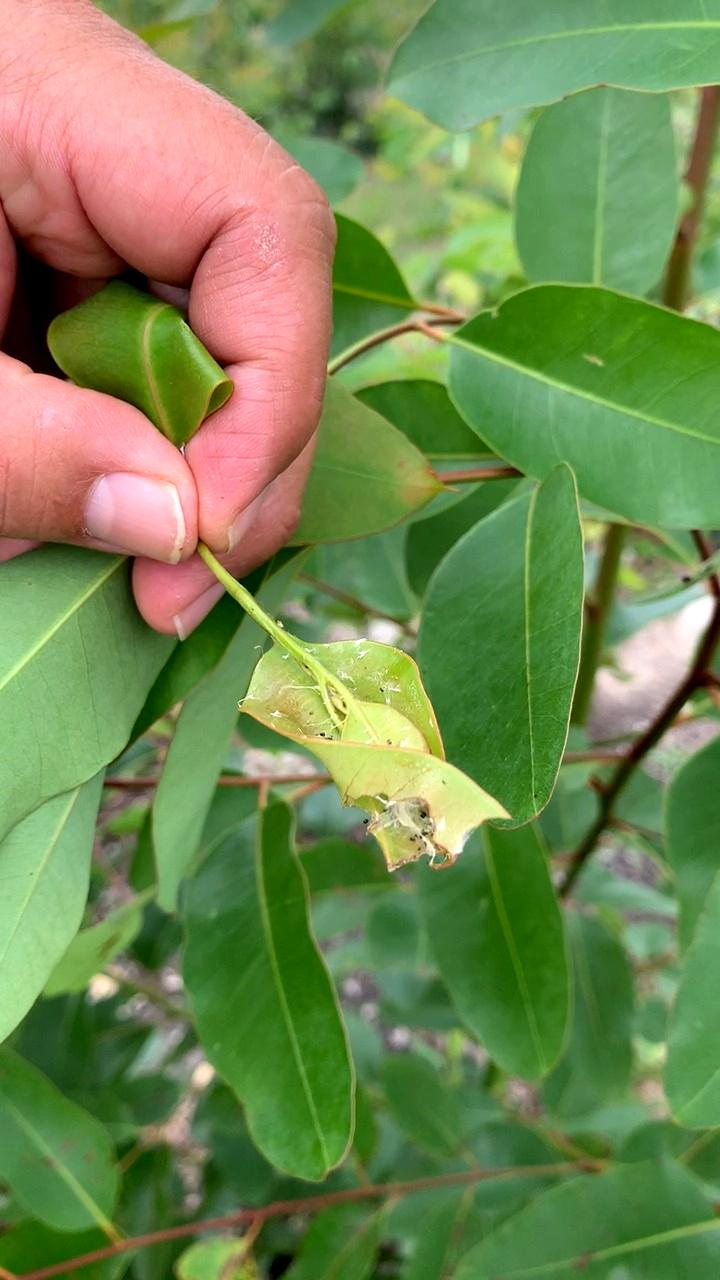Leaf Roller - Leaf: (223, 630, 531, 888)
